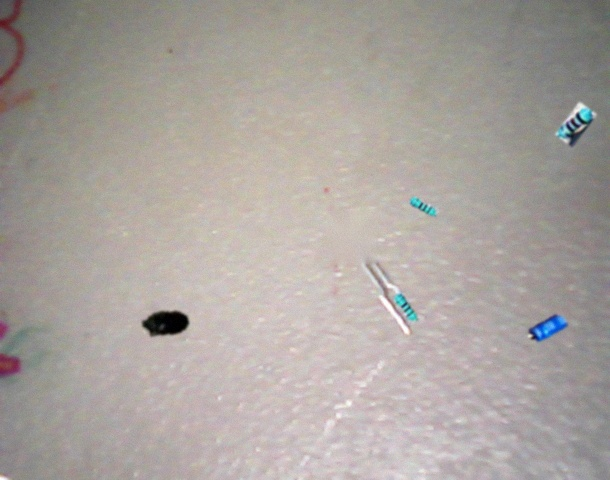capacitor: (142, 311, 189, 337), (527, 314, 569, 342)
resistor: (555, 102, 596, 147), (393, 292, 419, 325), (408, 195, 440, 217)
